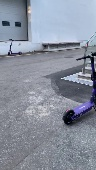beam: (62, 51, 96, 126), (7, 37, 22, 56)
